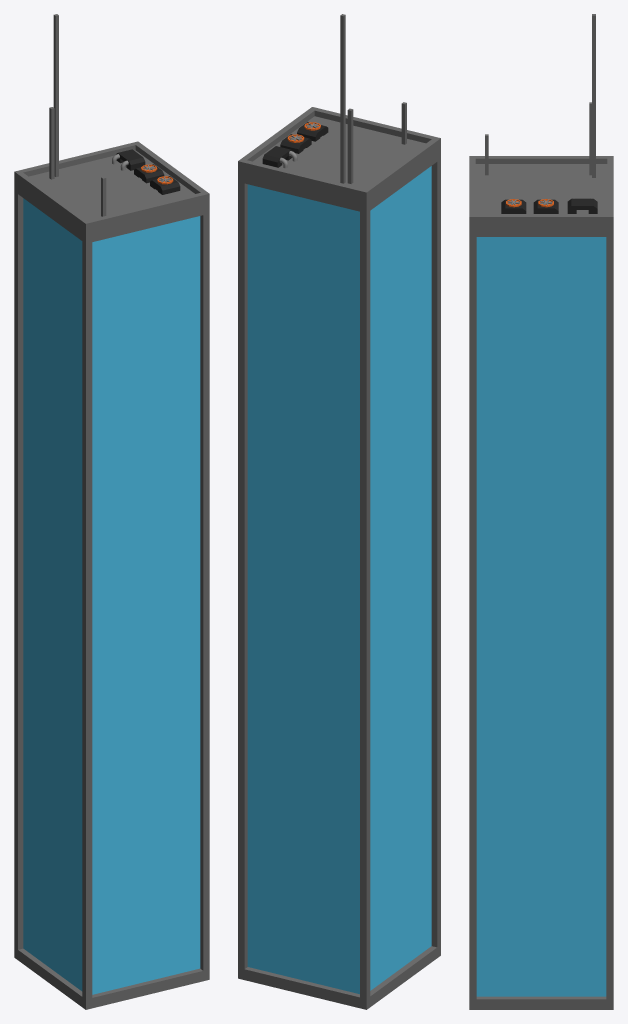
The model's file is Skyscraper_10.fbx.
The picture shows the model from 3 angles, left to right: view 1: azimuth 30°, elevation 25°; view 2: azimuth 150°, elevation 25°; view 3: azimuth 270°, elevation 25°; orthographic projection. The views are drawn at different scales.
Parts seen in each view (by area): view 1: Skyscraper_10; view 2: Skyscraper_10; view 3: Skyscraper_10.
Boxes of the visible parts, x1=… form: Skyscraper_10: x1=14, y1=14, x2=209, y2=1009; Skyscraper_10: x1=238, y1=14, x2=440, y2=1009; Skyscraper_10: x1=469, y1=14, x2=613, y2=1009.
Size of the model in its own units: 20.7 by 151 by 20.7.
